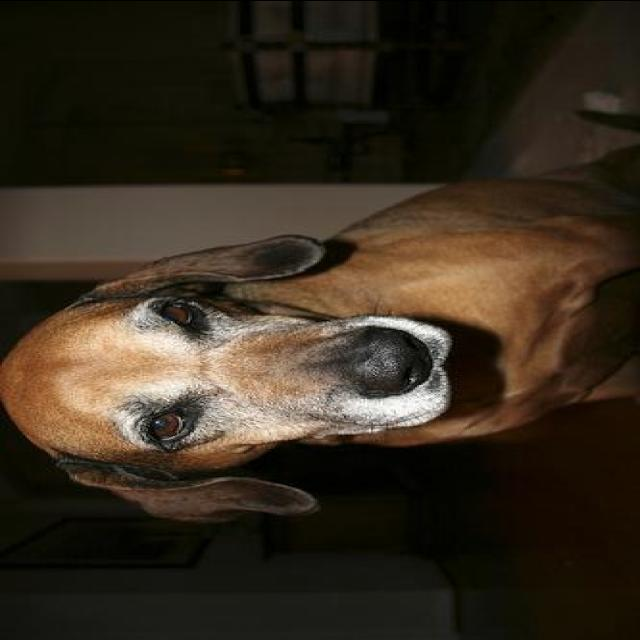bloodhound: (0, 104, 638, 522)
